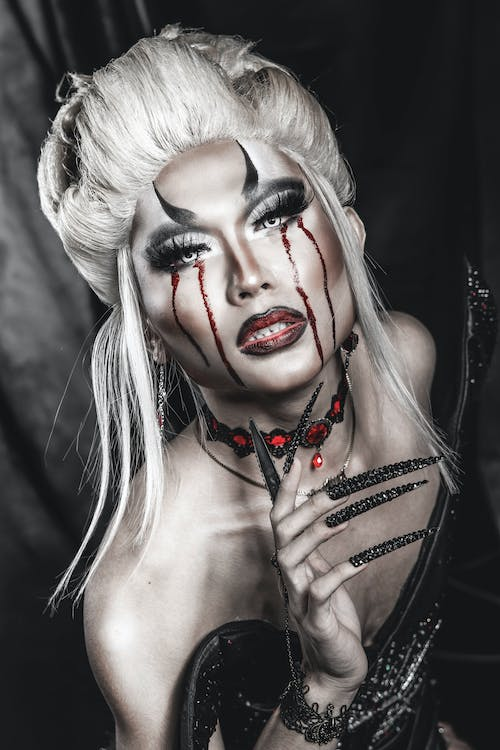blood: (168, 257, 247, 395), (278, 213, 338, 368)
